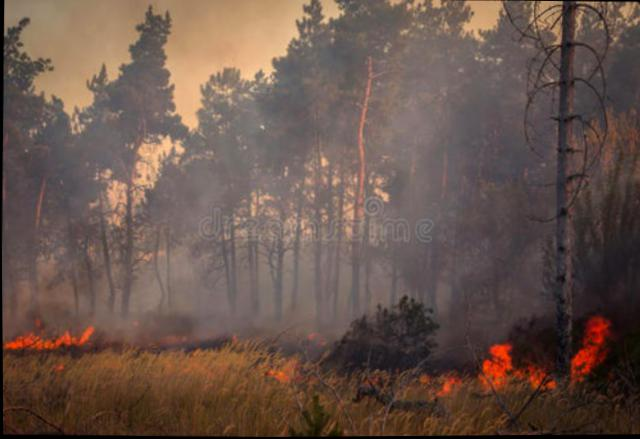fire: (2, 314, 100, 364), (567, 305, 616, 395), (468, 341, 556, 391)
